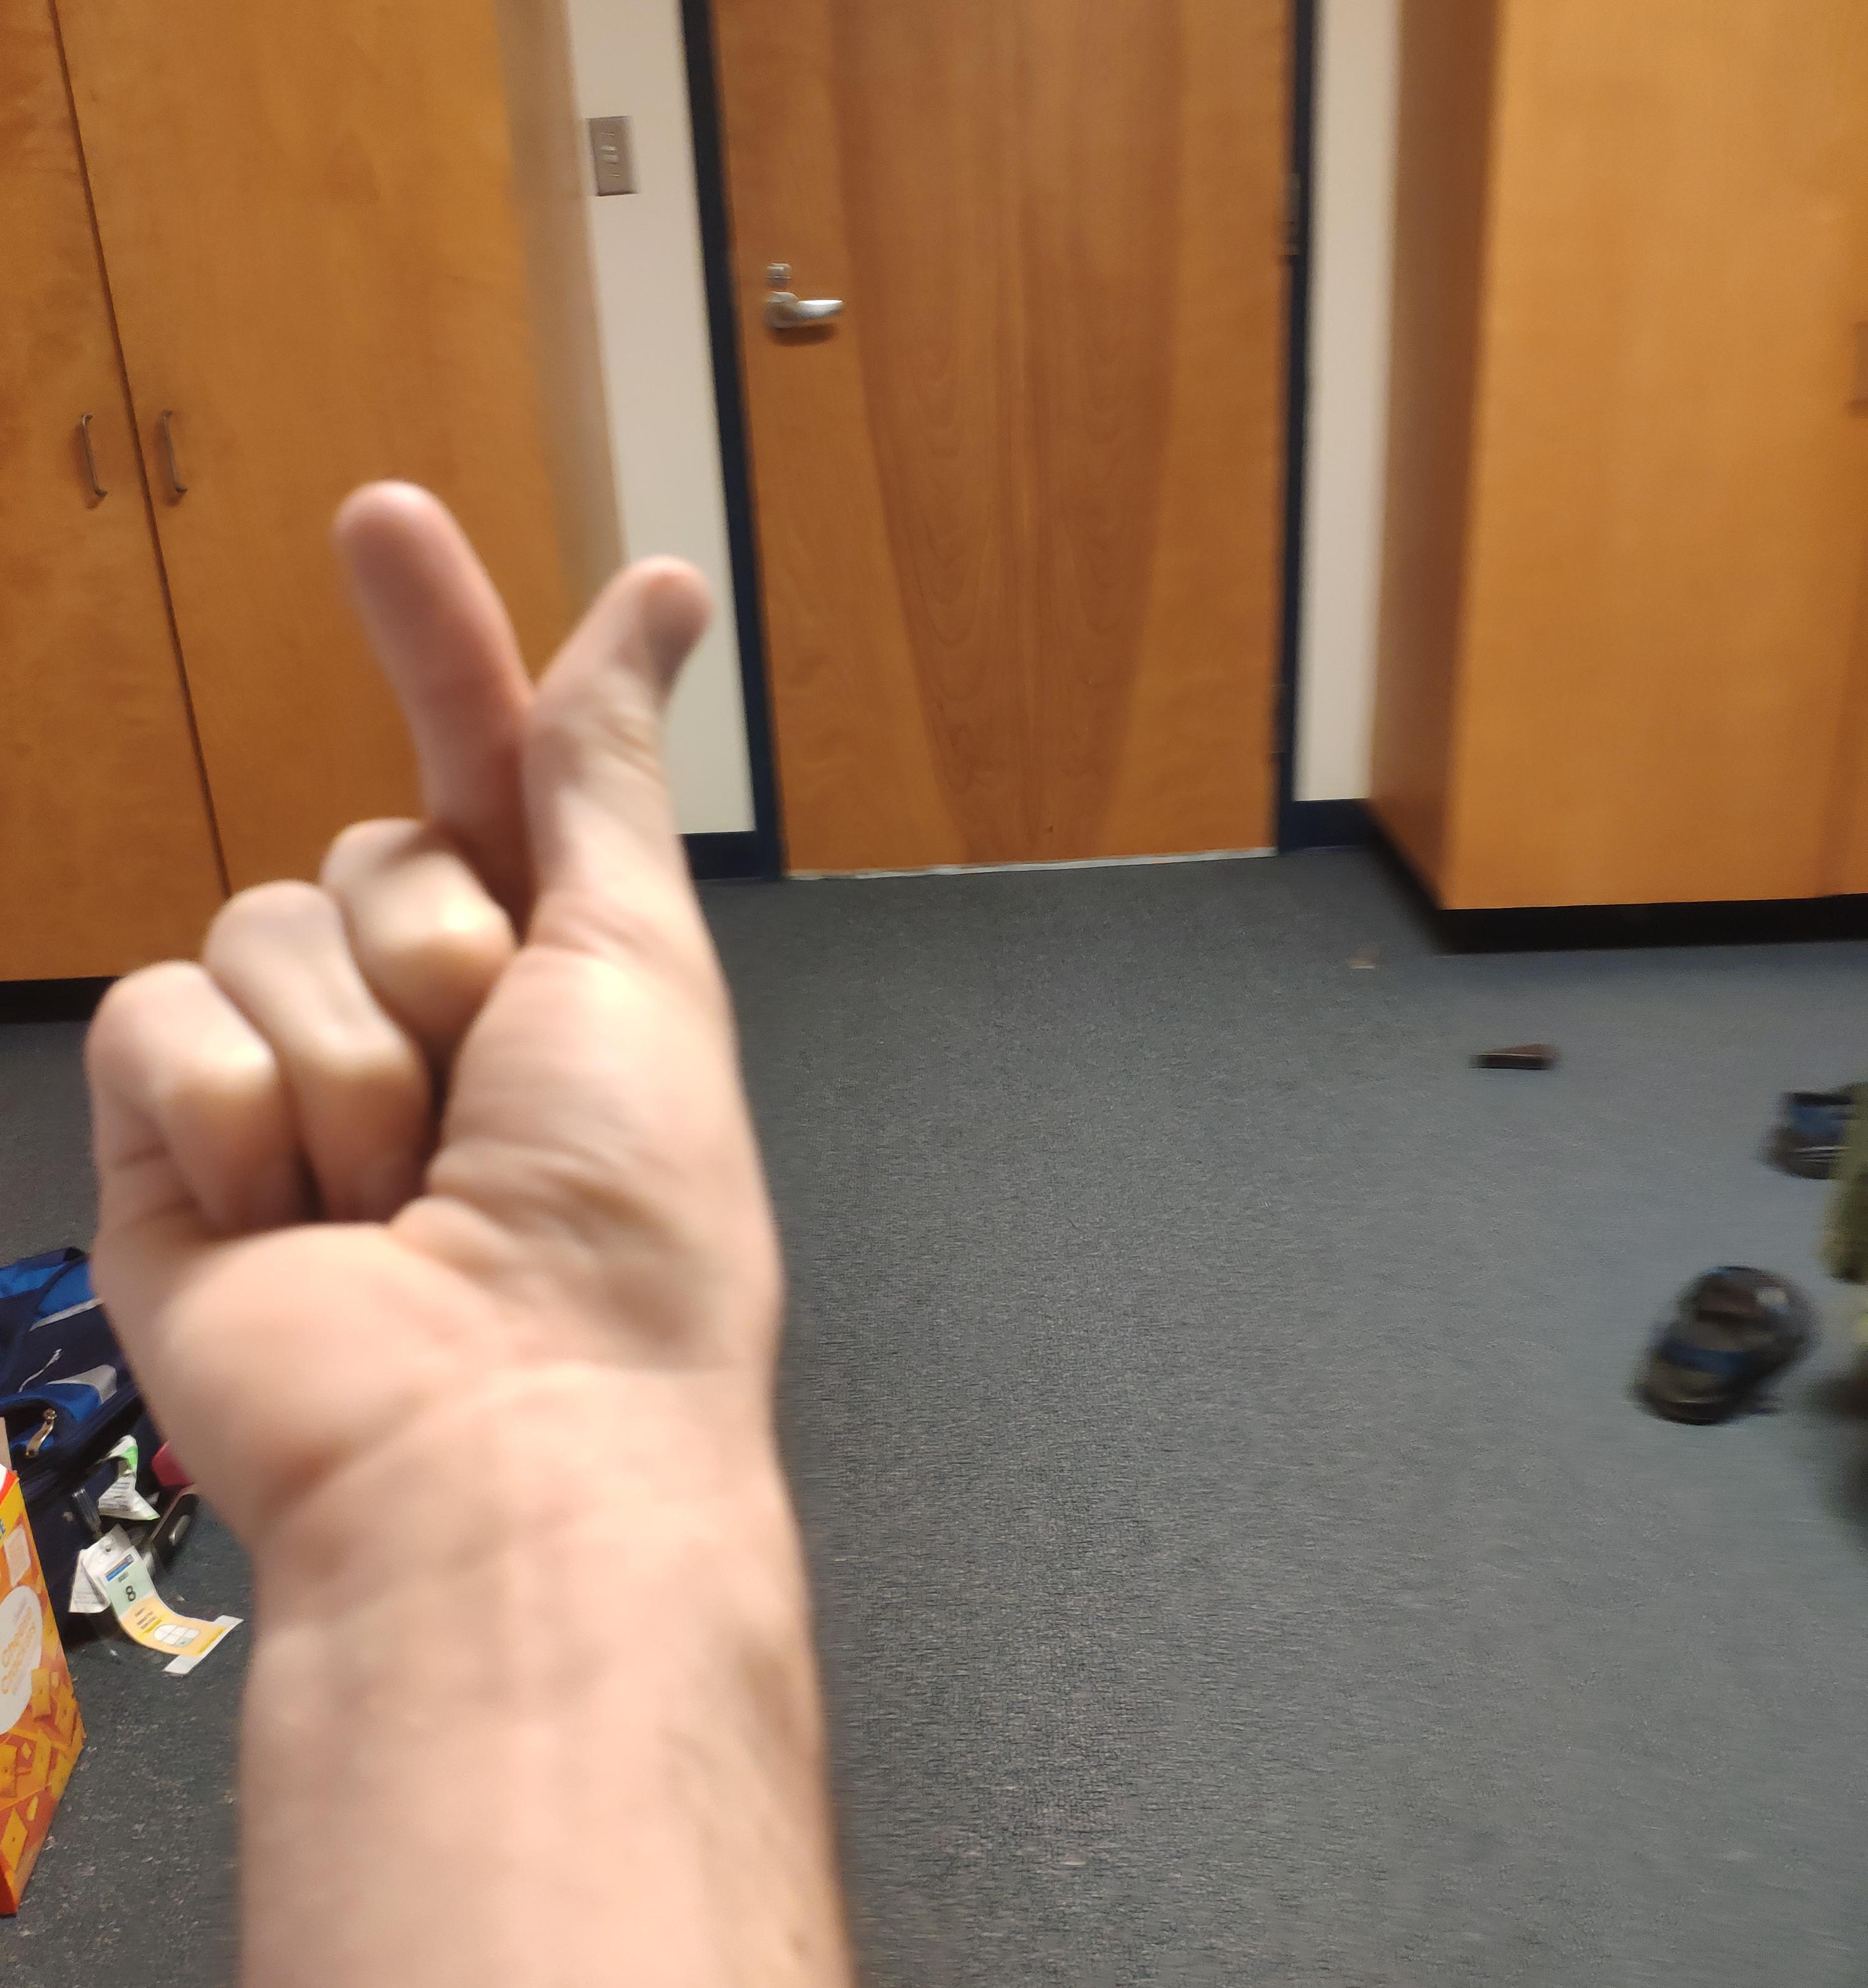heart gesture: (328, 472, 723, 785)
